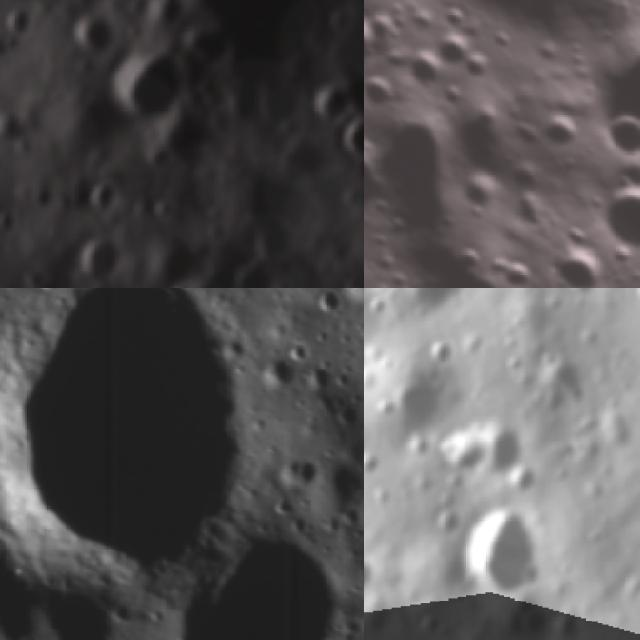crater: (0, 288, 260, 580), (364, 96, 502, 251), (195, 533, 363, 640), (563, 3, 640, 209), (89, 30, 203, 144), (456, 500, 550, 598), (581, 163, 640, 280), (58, 216, 135, 288), (27, 579, 114, 640), (364, 120, 399, 237), (298, 62, 363, 124), (210, 238, 290, 288), (59, 0, 126, 58), (386, 366, 442, 434), (0, 566, 51, 640), (546, 236, 618, 288), (451, 162, 511, 222), (594, 100, 640, 173), (528, 353, 584, 407), (441, 424, 495, 478), (325, 99, 364, 173), (81, 168, 134, 218), (498, 591, 552, 640), (507, 184, 558, 235), (537, 106, 588, 156), (364, 0, 412, 53), (430, 24, 478, 72), (147, 182, 193, 232), (453, 42, 501, 89), (364, 1, 391, 84), (0, 0, 45, 46), (274, 448, 324, 488), (300, 353, 338, 394), (435, 0, 476, 37), (496, 256, 543, 288), (453, 244, 490, 282), (372, 247, 408, 284), (260, 349, 298, 384), (434, 77, 469, 113), (425, 337, 461, 372), (535, 386, 573, 419), (279, 329, 314, 361), (157, 268, 209, 288), (381, 262, 421, 288), (305, 288, 347, 309), (576, 324, 604, 354), (364, 547, 378, 598), (500, 356, 526, 378), (366, 293, 388, 319), (364, 453, 383, 477), (365, 276, 400, 288), (564, 288, 595, 299), (630, 288, 640, 304)
